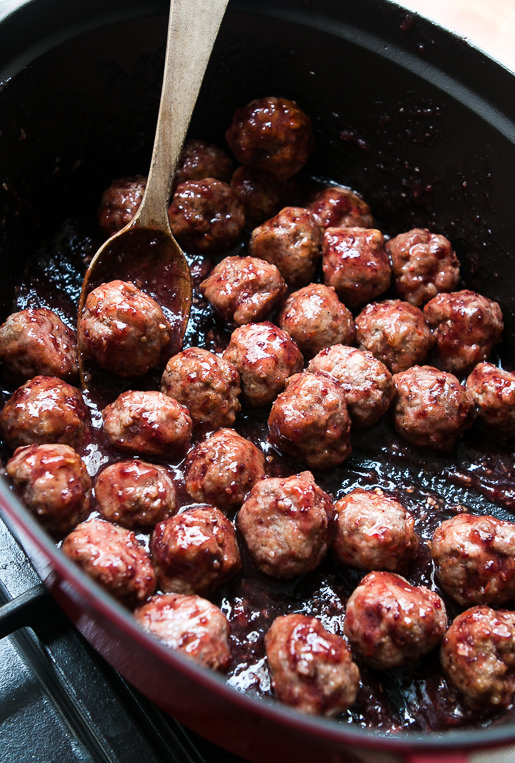meatballs: (7, 273, 509, 689), (211, 132, 453, 659)
